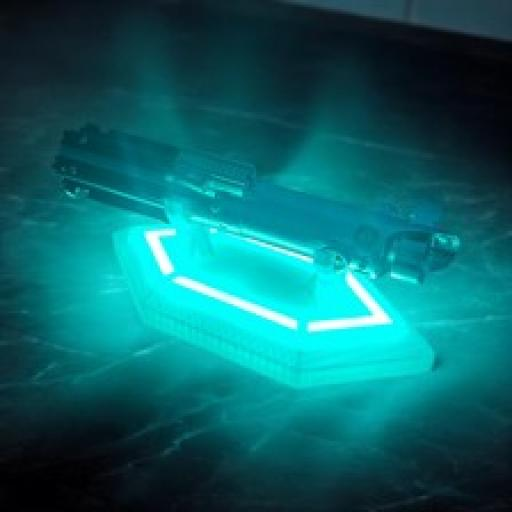lightsaber: (60, 126, 459, 285)
